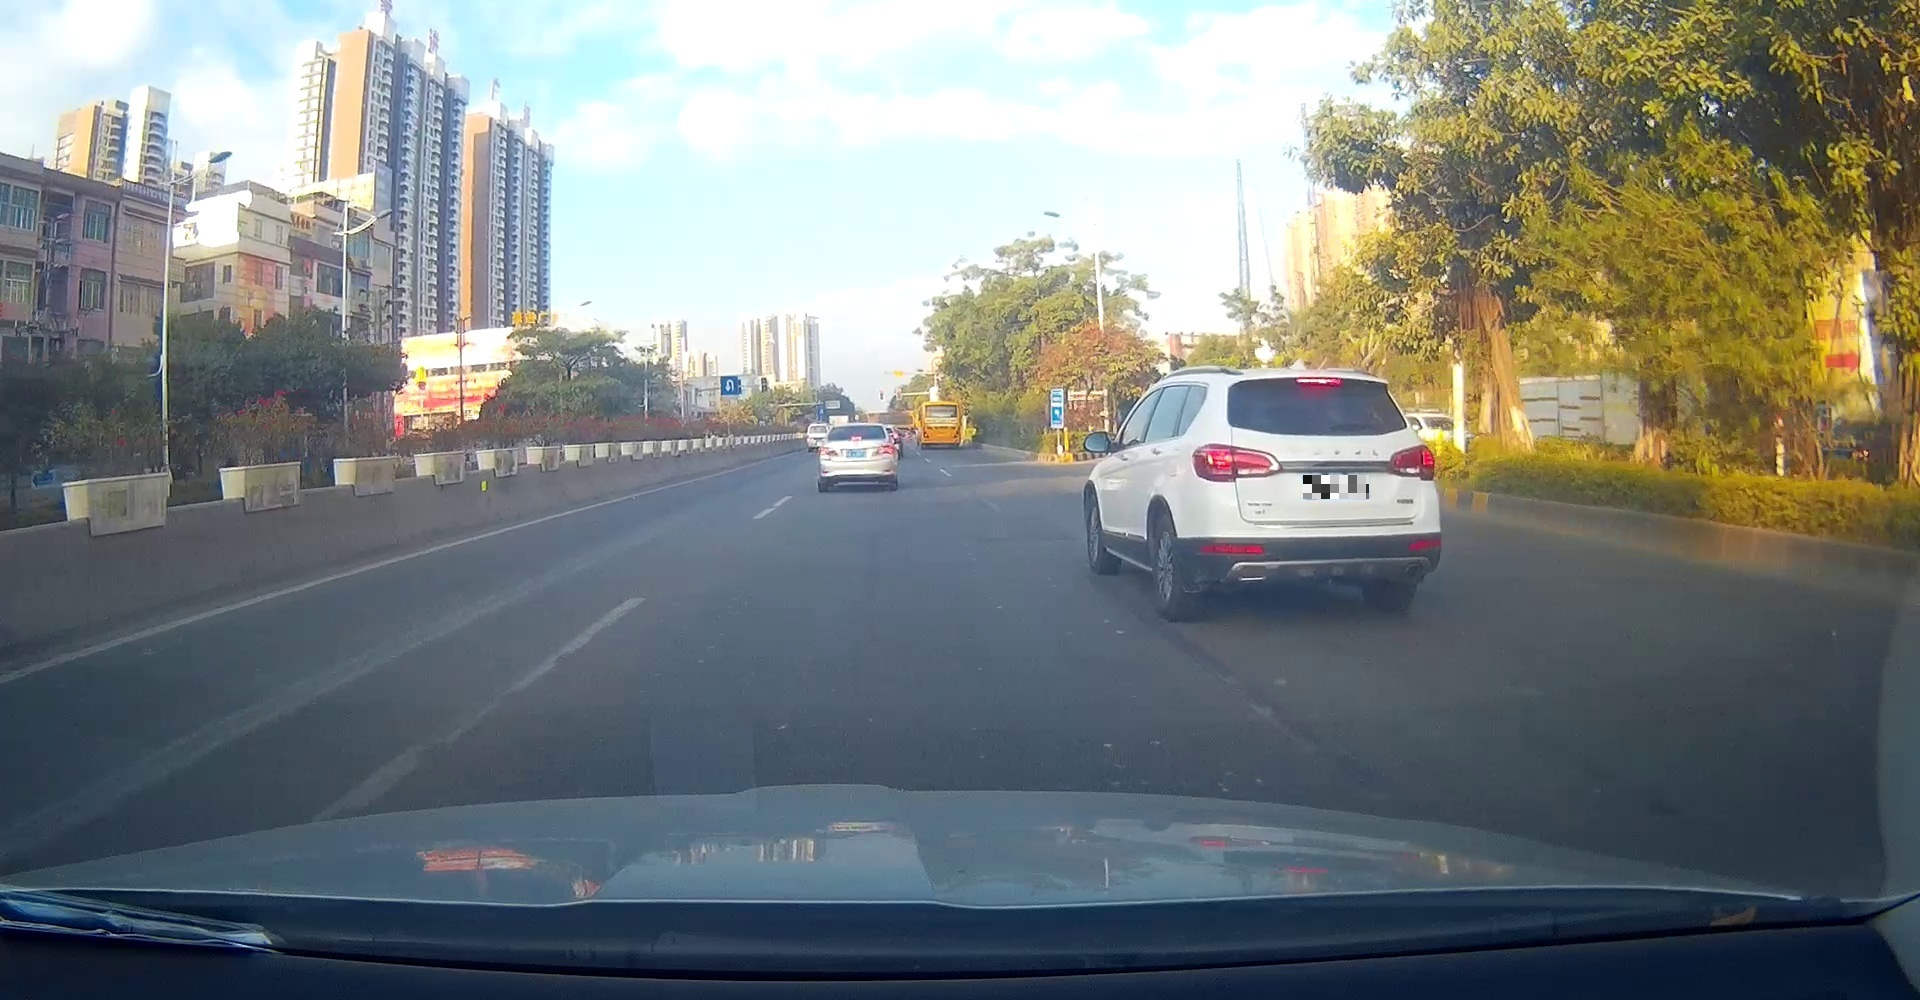L_light: (1192, 443, 1281, 482), (819, 448, 838, 457), (923, 426, 930, 439)
R_light: (1389, 445, 1435, 481), (877, 445, 894, 454), (952, 426, 959, 438)
T_light: (1297, 377, 1341, 386), (850, 437, 862, 442), (937, 414, 946, 416)
day-brake: (1189, 368, 1443, 619), (819, 423, 897, 491)
day-no: (921, 401, 960, 449)
plate_1: (1303, 475, 1369, 499)
